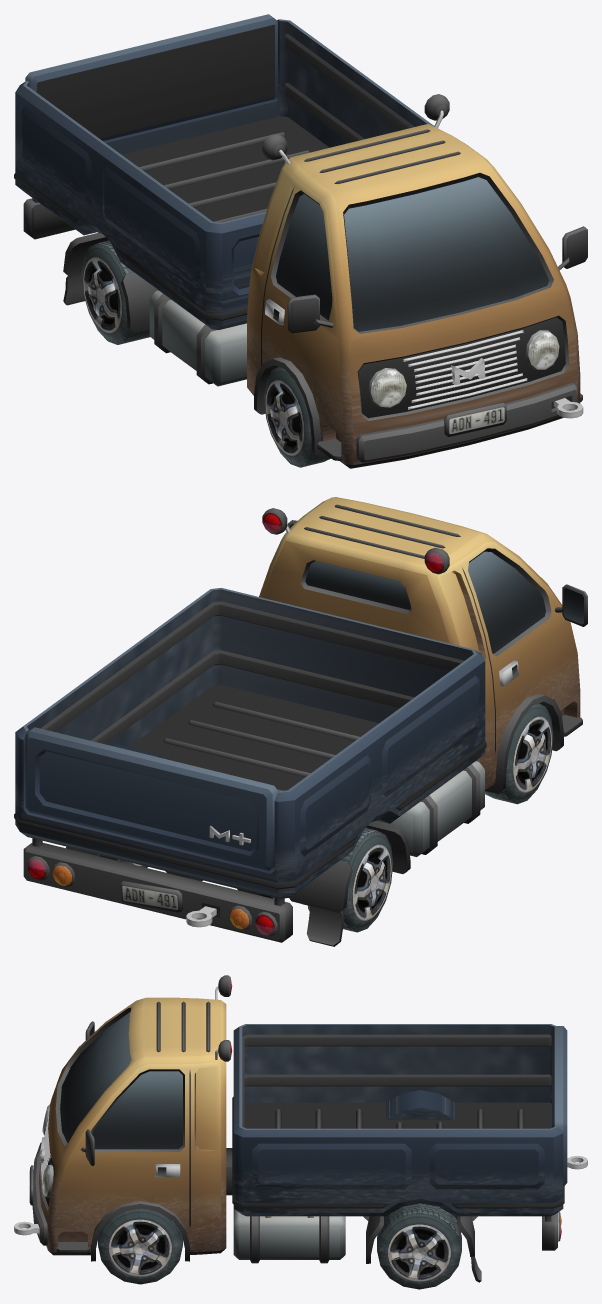
Rendered from VHC0110018.FBX.
3 views of the same model, one above another, from view 1: azimuth 30°, elevation 25°; view 2: azimuth 150°, elevation 25°; view 3: azimuth 270°, elevation 25° (orthographic). The views are drawn at different scales.
Parts seen in each view (by area): view 1: smVHC0110018; view 2: smVHC0110018; view 3: smVHC0110018.
Part boxes in pixels (x1,y1,x2,y2): smVHC0110018: (14, 14, 587, 468); smVHC0110018: (14, 497, 587, 946); smVHC0110018: (14, 975, 587, 1289).
Bounding box in the file's own units: 2.79 × 2.5 × 5.68.
Materials: 1 (1 with a texture image).
